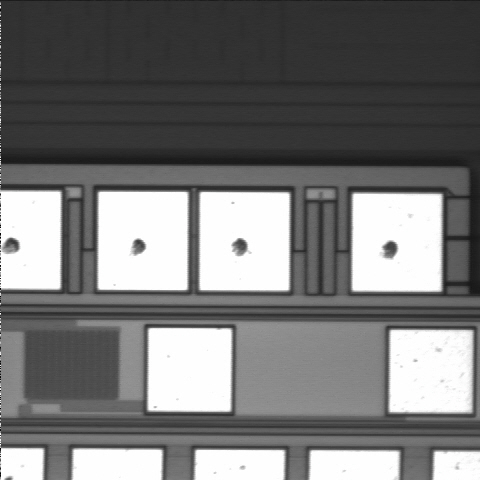pad: (200, 192, 290, 291), (98, 192, 188, 290), (352, 194, 442, 292), (148, 328, 232, 412), (389, 330, 472, 412)
